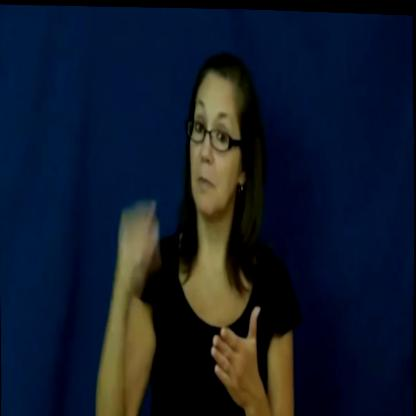Expensive: (111, 188, 266, 413)
